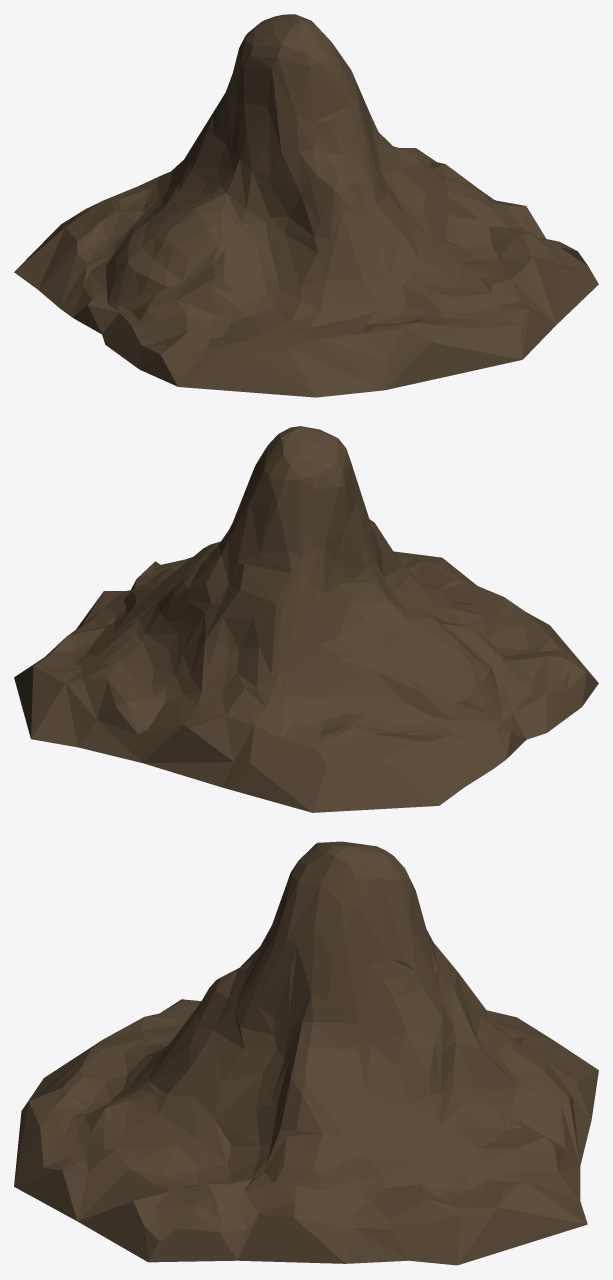
The model's file is SM_Env_Hill_03.gltf.
3 views of the same model, one above another, from view 1: azimuth 30°, elevation 25°; view 2: azimuth 150°, elevation 25°; view 3: azimuth 270°, elevation 25° (orthographic). The views are drawn at different scales.
Visible parts, largest first — view 1: SM_Env_Hill_03; view 2: SM_Env_Hill_03; view 3: SM_Env_Hill_03.
Boxes of the visible parts, bbox=[...] form: SM_Env_Hill_03: bbox=[14, 14, 598, 397]; SM_Env_Hill_03: bbox=[14, 426, 598, 812]; SM_Env_Hill_03: bbox=[14, 841, 598, 1265].
Bounding box in the file's own units: 11.15 × 6.24 × 11.21.
Materials: 1 (1 with a texture image).
